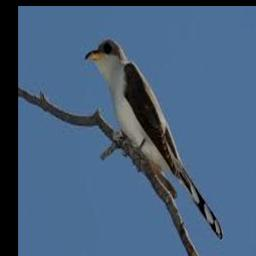Cuckoo: (85, 38, 223, 241)
